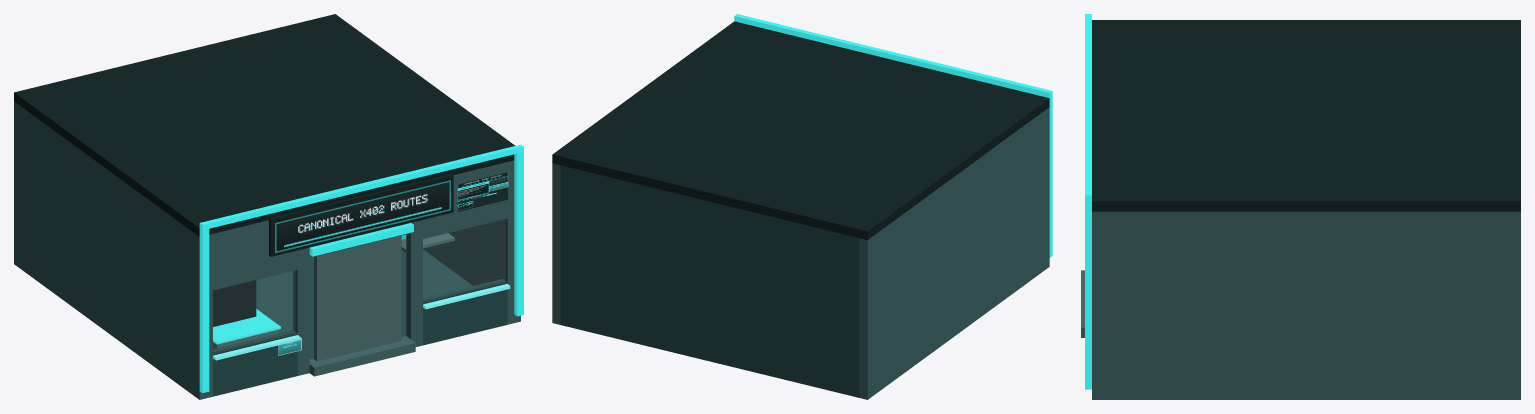
Rendered from plot.glb.
3 renders of one model, left to right at view 1: azimuth 30°, elevation 25°; view 2: azimuth 150°, elevation 25°; view 3: azimuth 270°, elevation 25°, orthographic. The views are drawn at different scales.
Parts seen in each view (by area): view 1: facade, neon, sign_1, door_panel_L, door_panel_R, pic_1, lintel; view 2: facade, neon; view 3: facade, neon.
Part boxes in pixels (x1=…): facade: x1=14, y1=14, x2=520, y2=399; neon: x1=199, y1=144, x2=523, y2=393; sign_1: x1=275, y1=180, x2=450, y2=252; door_panel_L: x1=314, y1=246, x2=359, y2=361; door_panel_R: x1=359, y1=235, x2=401, y2=350; pic_1: x1=457, y1=172, x2=508, y2=211; lintel: x1=309, y1=223, x2=413, y2=256; facade: x1=552, y1=21, x2=1049, y2=399; neon: x1=734, y1=14, x2=1052, y2=257; facade: x1=1081, y1=20, x2=1520, y2=399; neon: x1=1085, y1=14, x2=1091, y2=389.
Size of the model in its own units: 9.5 by 5 by 9.74.
Materials: 4 (3 with a texture image).
